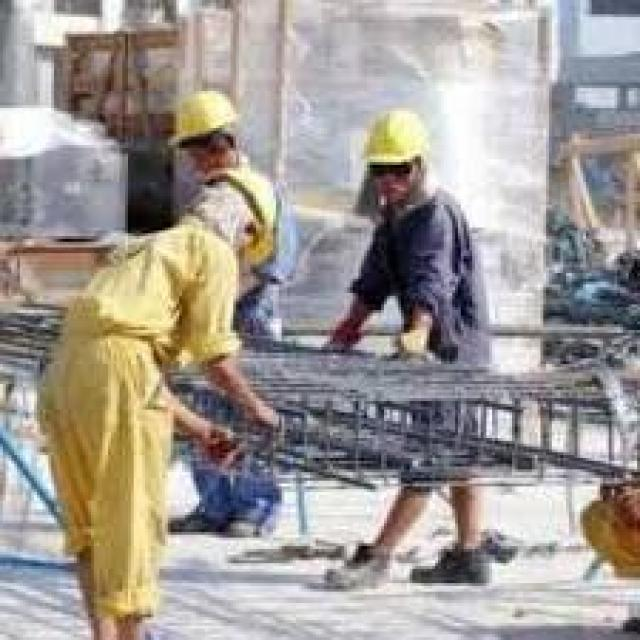Reflective-Jacket: (180, 162, 304, 293)
Safety-Helmet: (148, 77, 259, 162), (344, 97, 447, 182)
